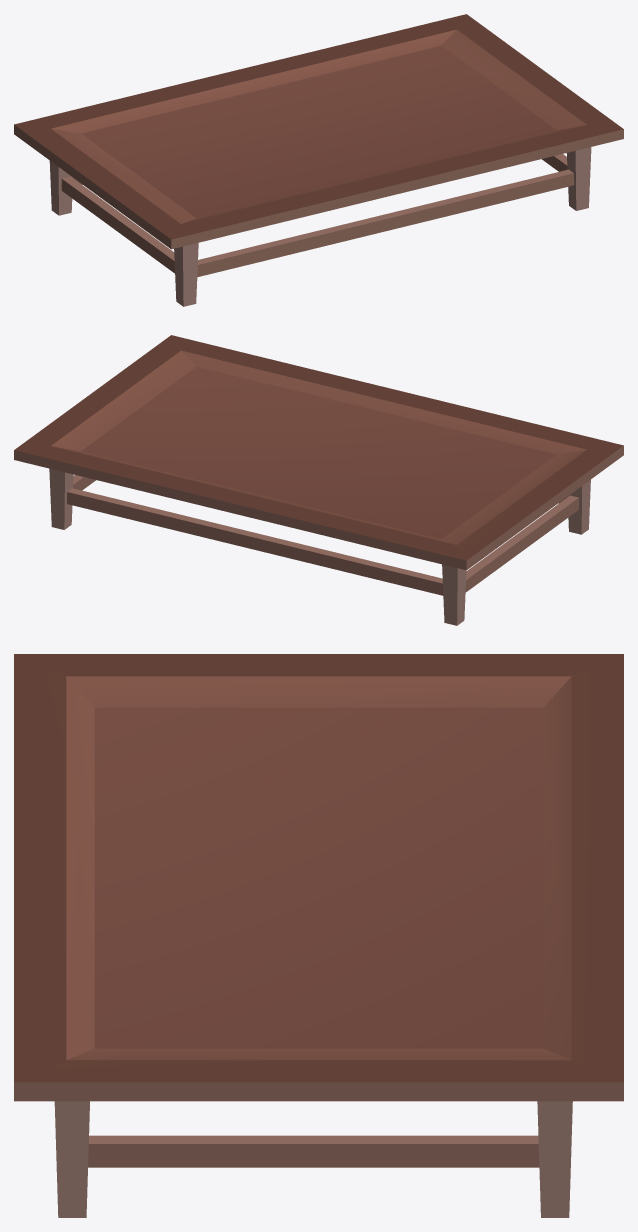
The model's file is coffee_table_012.glb.
3 views of the same model, one above another, from view 1: azimuth 30°, elevation 25°; view 2: azimuth 150°, elevation 25°; view 3: azimuth 270°, elevation 25° (orthographic). The views are drawn at different scales.
Visible parts, largest first — view 1: coffee_table_012; view 2: coffee_table_012; view 3: coffee_table_012.
Boxes of the visible parts, x1,y1,x2,y2 form: coffee_table_012: (14,14,623,306); coffee_table_012: (14,335,623,625); coffee_table_012: (14,654,623,1217).
Bounding box in the file's own units: 1.72 × 0.2952 × 1.03.
Materials: 1 (1 with a texture image).
